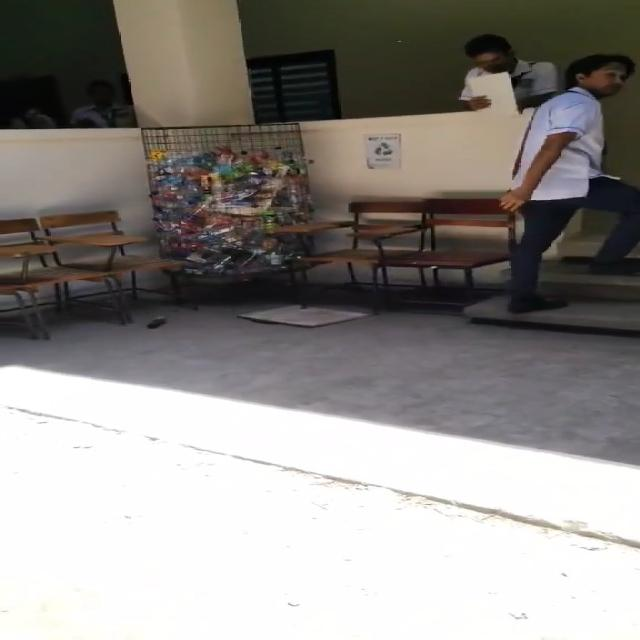Bottle: (146, 317, 171, 329)
